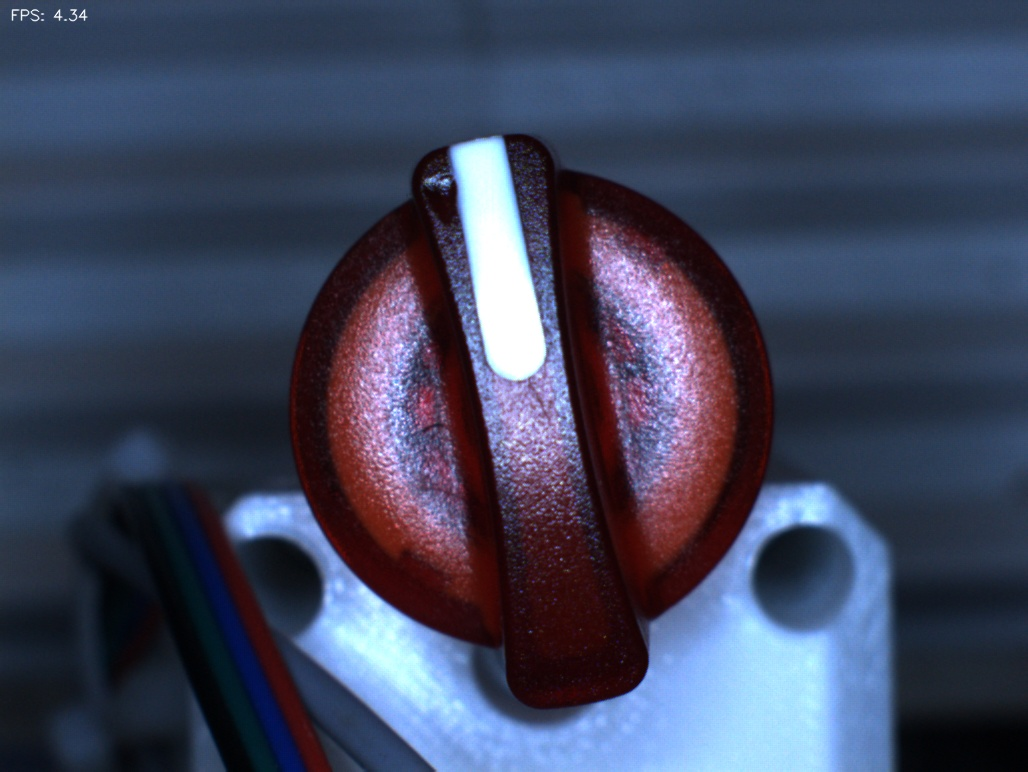Choc: (406, 155, 490, 239)
